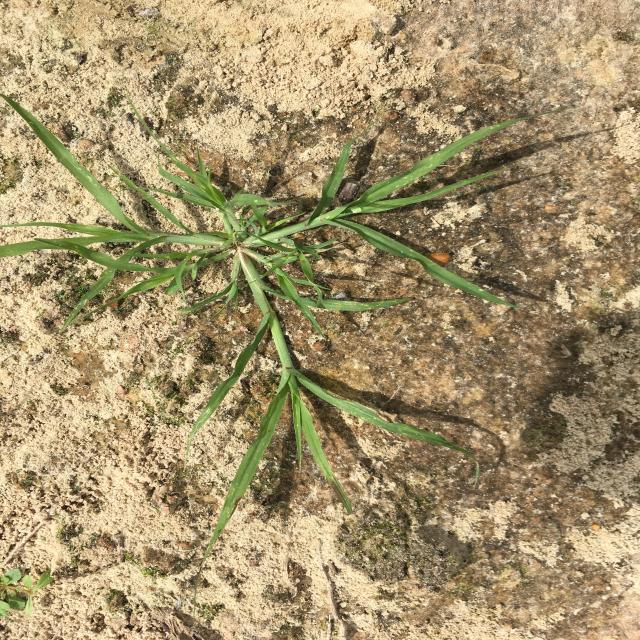Goosegrass: (1, 93, 555, 562)
